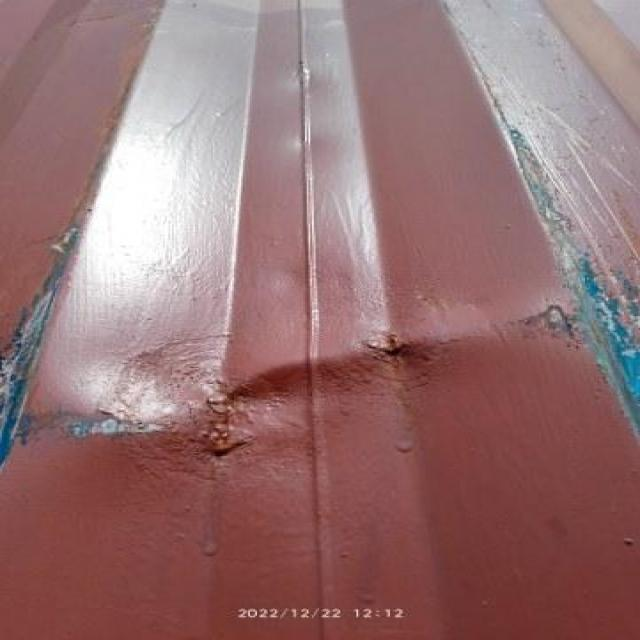Minor-Dent: (174, 331, 488, 477)
